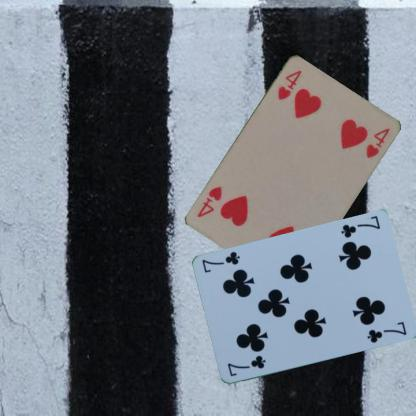4h: (275, 67, 303, 101)
7c: (338, 213, 381, 240), (225, 353, 267, 378)
